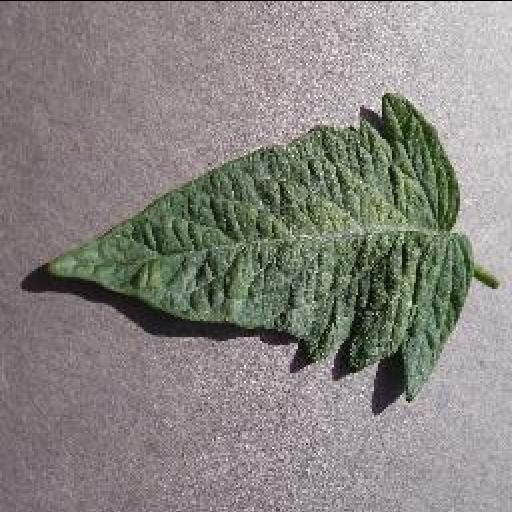disease_tomato: (42, 90, 476, 404)
